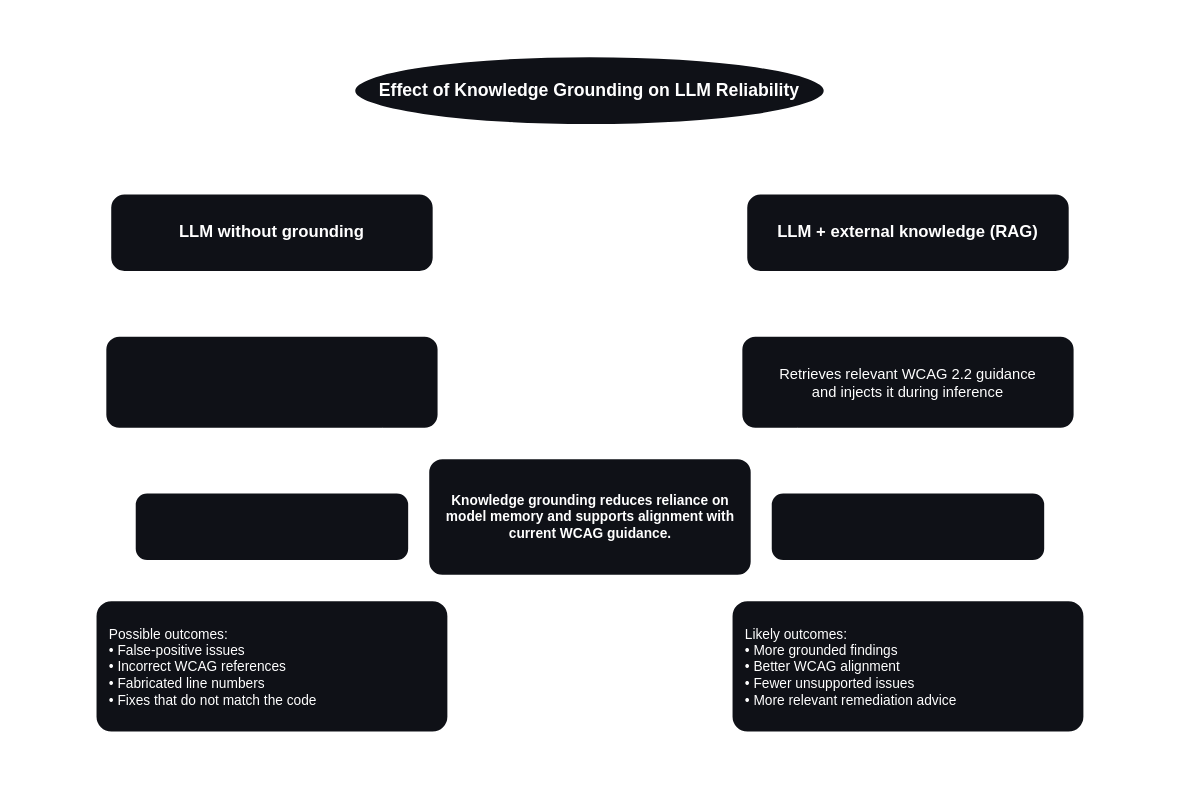
The diagram is 1179 pixels wide and 788 high, and some of its shapes have lost their labels. The shapes that lost their labels are listed below. From the top down, each one's centre as x and y in pixels, then its label:
point (271, 381): Uses internal training data only No retrieved WCAG 2.2 support
point (271, 526): Higher hallucination risk
point (907, 526): Improved accuracy and reliability
